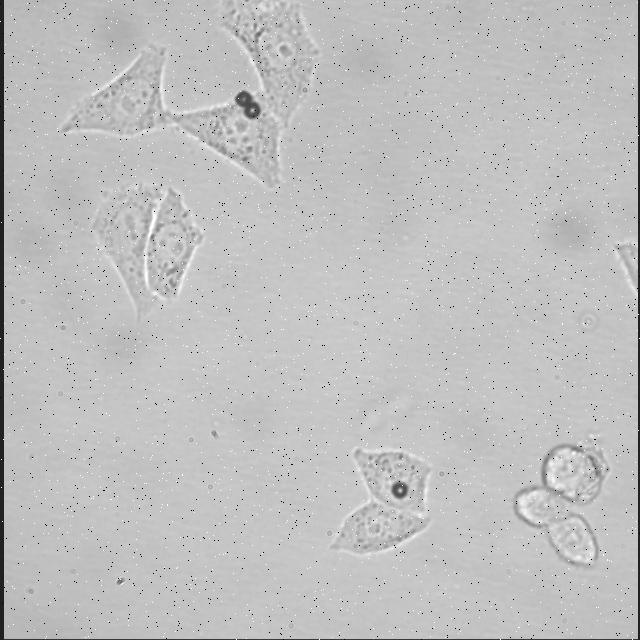microbeads: (232, 85, 252, 108), (390, 480, 410, 500), (244, 100, 262, 122)
